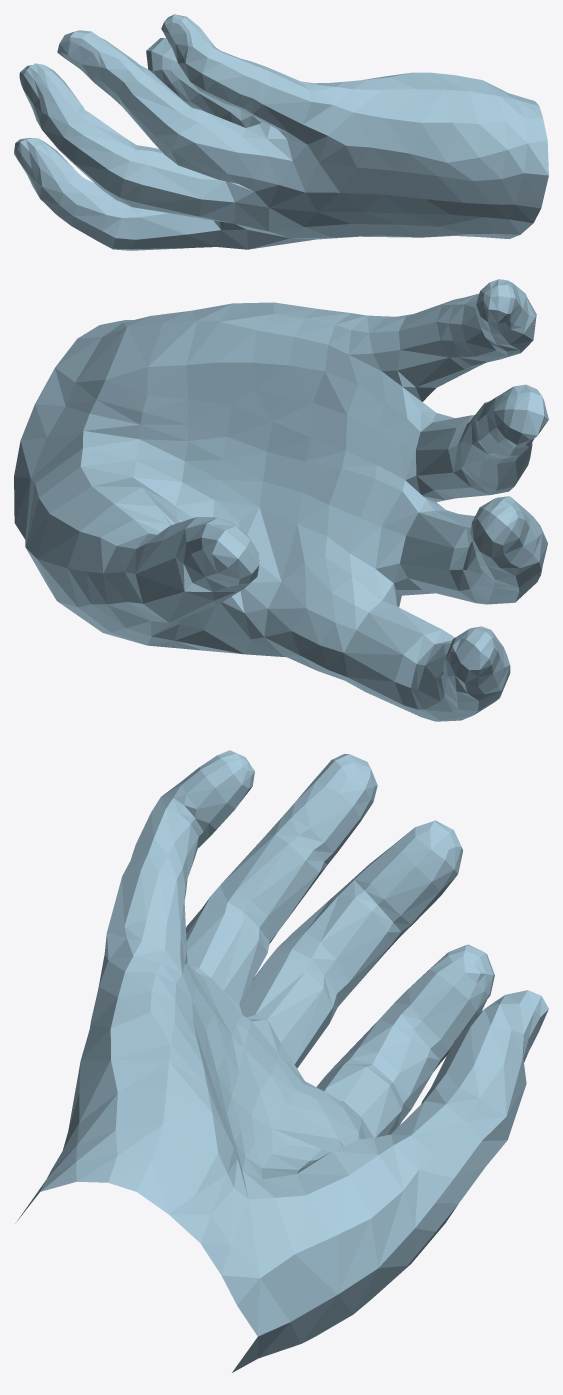
Rendered from frame_044.glb.
The picture shows the model from 3 angles, top to bottom: view 1: azimuth 30°, elevation 25°; view 2: azimuth 150°, elevation 25°; view 3: azimuth 270°, elevation 25°; orthographic projection. The views are drawn at different scales.
Parts seen in each view (by area): view 1: world; view 2: world; view 3: world.
Part boxes in pixels (x1,y1,x2,y2): world: [14, 14, 548, 250]; world: [14, 279, 548, 721]; world: [15, 750, 548, 1372].
Size of the model in its own units: 0.1411 by 0.0901 by 0.1067.
